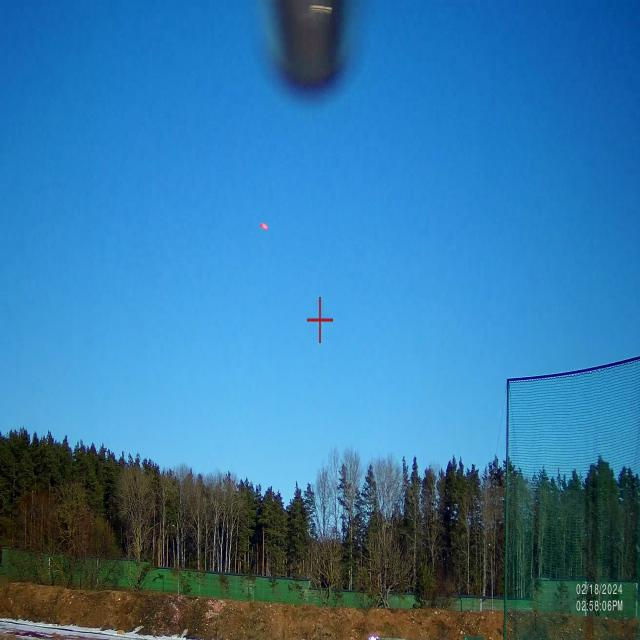entire: (258, 216, 271, 237)
